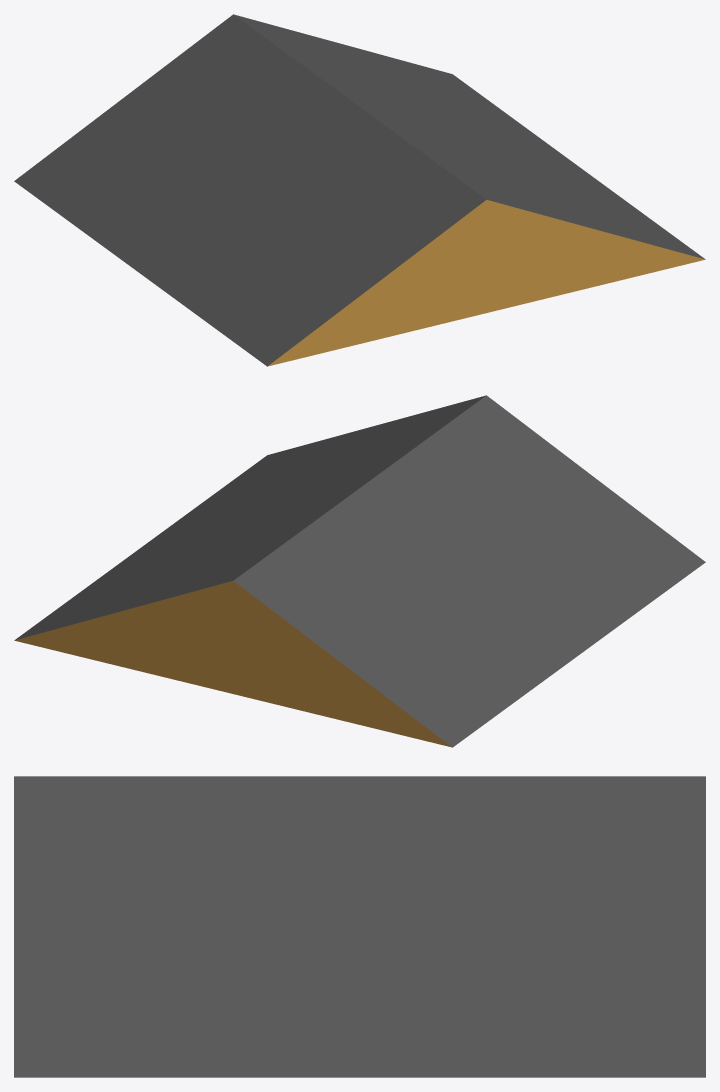
The model's file is Skate_Triangle_Ramp_01.FBX.
3 views of the same model, one above another, from view 1: azimuth 30°, elevation 25°; view 2: azimuth 150°, elevation 25°; view 3: azimuth 270°, elevation 25° (orthographic). The views are drawn at different scales.
Visible parts, largest first — view 1: Skate_Triangle_Ramp_01; view 2: Skate_Triangle_Ramp_01; view 3: Skate_Triangle_Ramp_01.
Boxes of the visible parts, x1,y1,x2,y2 form: Skate_Triangle_Ramp_01: (14,14,705,366); Skate_Triangle_Ramp_01: (14,395,705,747); Skate_Triangle_Ramp_01: (14,776,705,1077).
Size of the model in its own units: 3 by 0.741 by 3.
